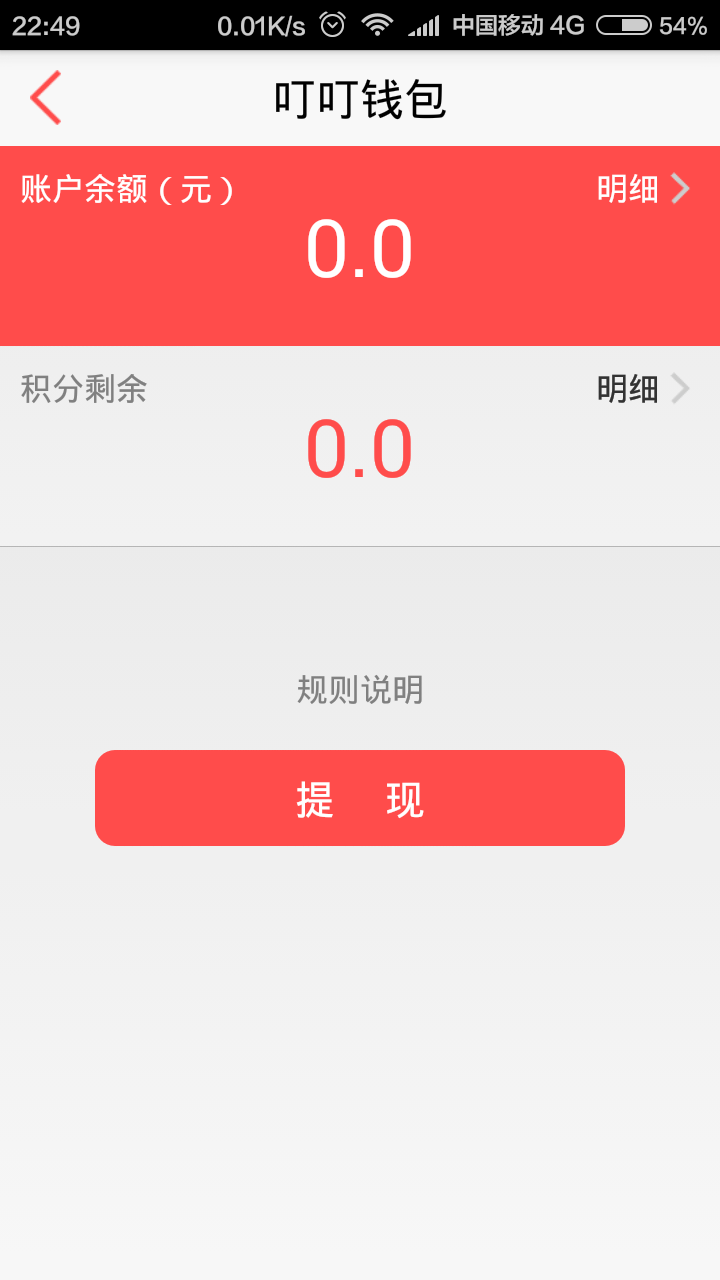button: (86, 742, 636, 857)
imgbutton: (18, 57, 81, 134), (664, 161, 698, 219)
textview: (1, 141, 720, 545), (267, 660, 454, 718)
